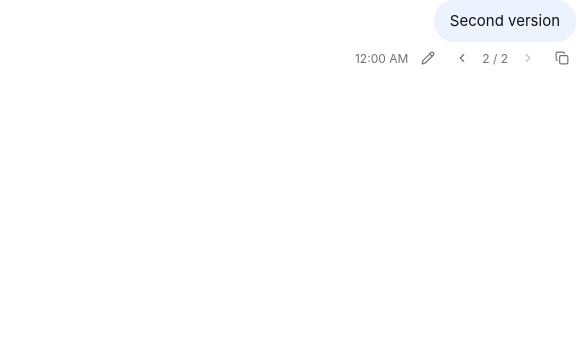
Test case: user message versions › keeps the edit draft after rejection, supports retry and cancel
Click the button named "Edit message".
click(428, 58)  # box [414,44,442,72]
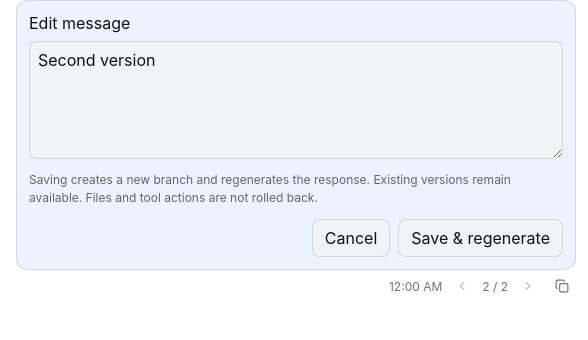
expect the text box labelled "Edit message" holds "Second version": met
Replace the text in the text box labelled "Edit message" with "Revised text" at (296, 100), box [29,41,563,159]
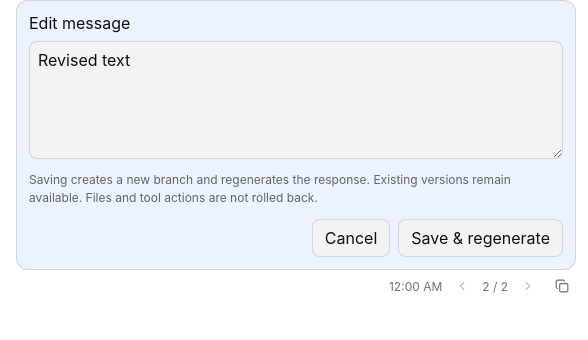
Submit the form
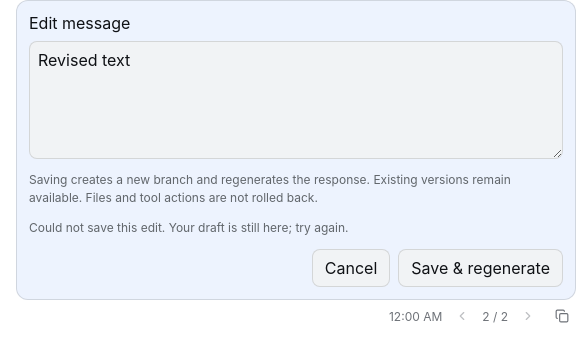
expect the message "Could not save this edit. Your draft is still here; try again." is shown: met, box [29,220,348,235]
Click the button "Cancel".
click(351, 268)  # box [312,249,390,287]
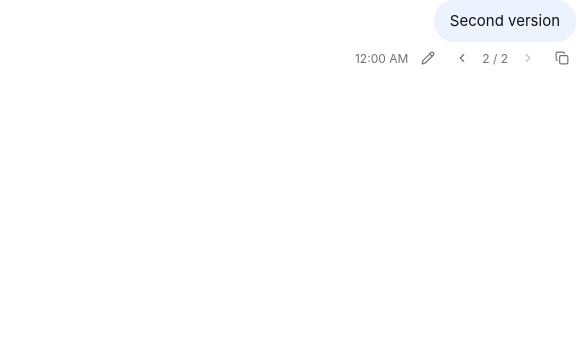
expect the text box is gone: met
expect the text "Second version" is shown: met, box [450,11,560,30]
